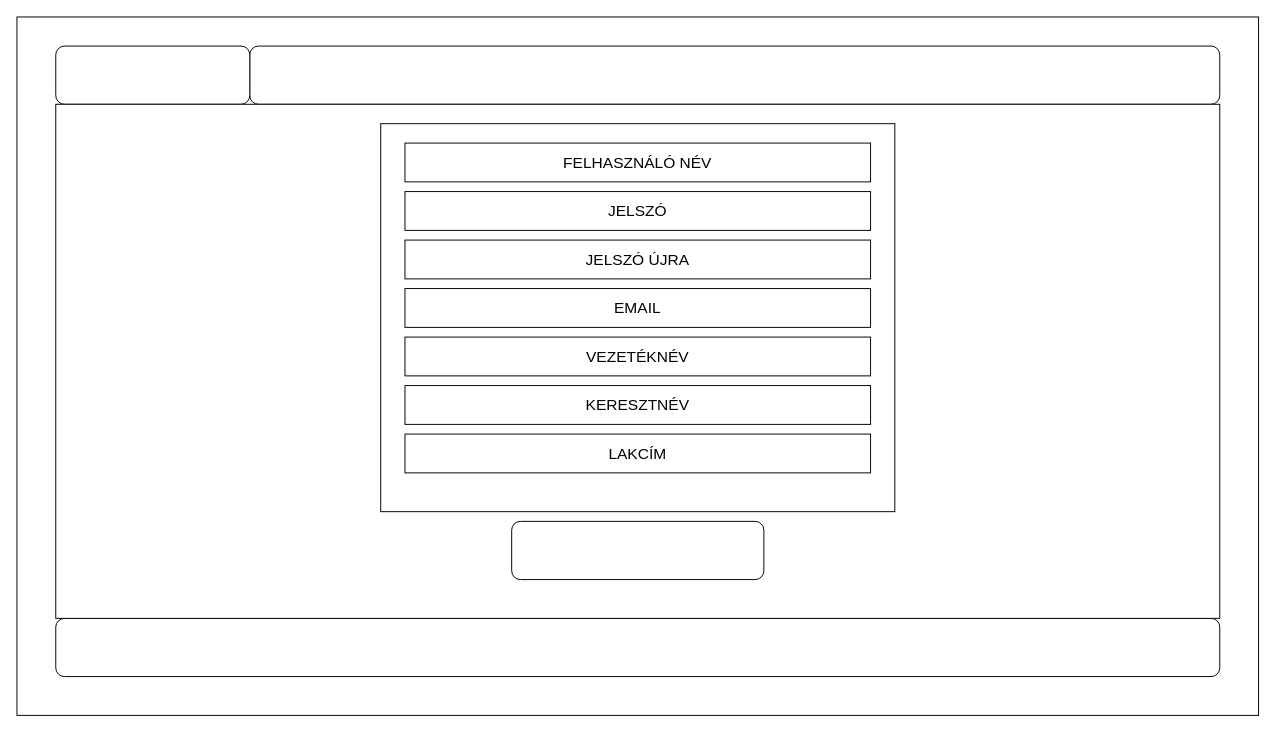
This 1276x732 diagram has some shape labels left out. The centre of each missing label's shape, as x and y in pixels:
LOGÓ ÉS CÉGNÉV: (152,74)
LÁBJEGYZET: (637,647)
MENÜSÁV: (734,74)
Regisztráció: (637,550)
